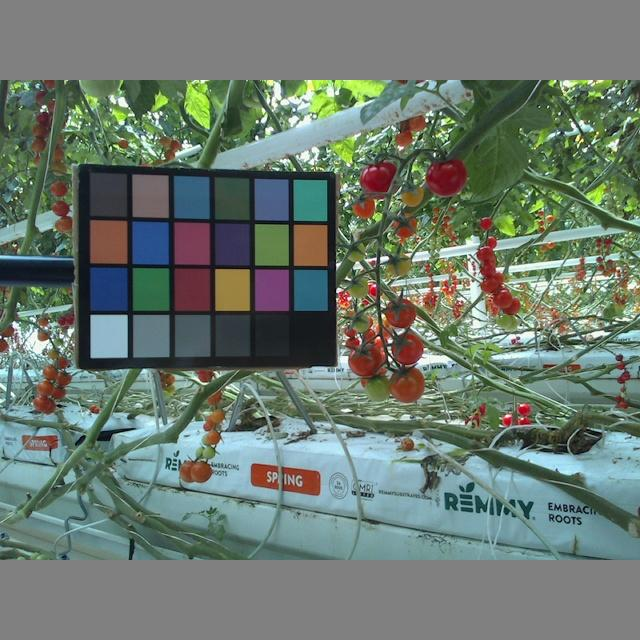green: (361, 377, 394, 404), (387, 251, 411, 277), (347, 309, 370, 334), (344, 240, 368, 261), (349, 274, 369, 296)
pink: (390, 366, 426, 403), (348, 343, 385, 377), (388, 332, 423, 365), (386, 298, 416, 328), (389, 214, 421, 237), (398, 181, 424, 208), (354, 195, 377, 221), (189, 459, 211, 482), (54, 214, 76, 232), (35, 380, 58, 396), (30, 393, 49, 412), (50, 199, 68, 216), (208, 408, 225, 425), (49, 181, 67, 197), (206, 430, 222, 444), (44, 363, 57, 378)
red: (425, 158, 468, 197), (357, 162, 400, 195)
